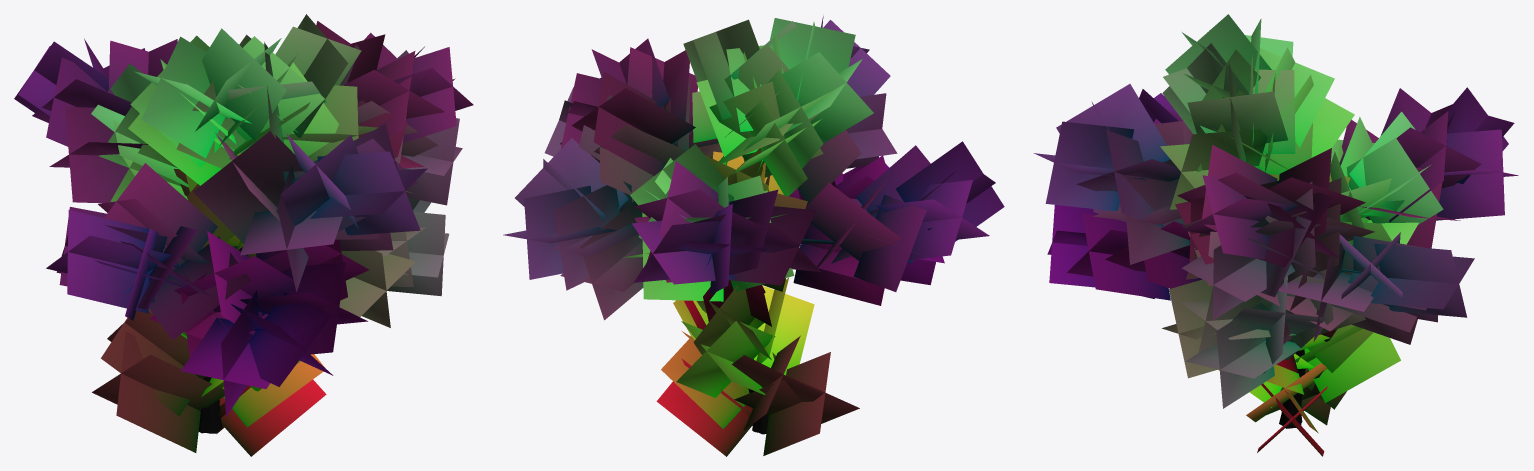
File: M_P3_Tree_10.fbx
3 renders of one model, left to right at view 1: azimuth 30°, elevation 25°; view 2: azimuth 150°, elevation 25°; view 3: azimuth 270°, elevation 25°, orthographic. The views are drawn at different scales.
Visible parts, largest first — view 1: Tree_10; view 2: Tree_10; view 3: Tree_10.
Boxes of the visible parts, x1=… form: Tree_10: x1=14, y1=14, x2=473, y2=456; Tree_10: x1=503, y1=16, x2=1004, y2=456; Tree_10: x1=1033, y1=14, x2=1518, y2=456.
Bounding box in the file's own units: 566 × 563 × 588.
